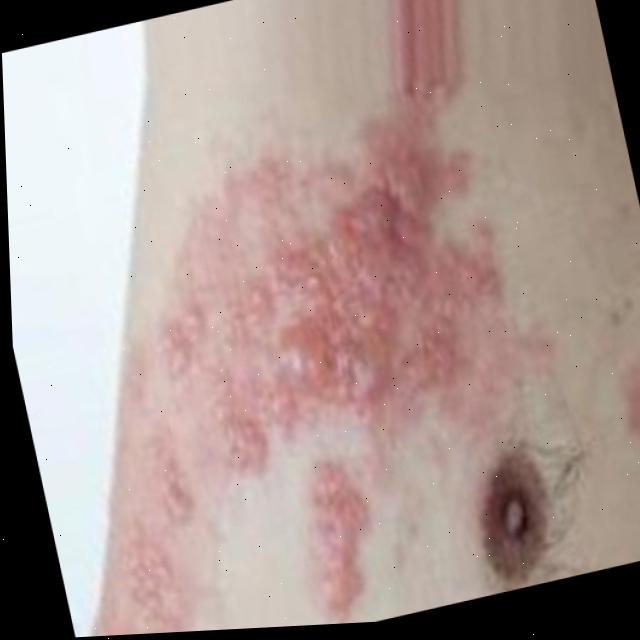Shingles: (4, 95, 503, 640)
